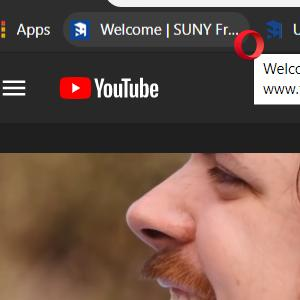opera: (233, 29, 265, 60)
